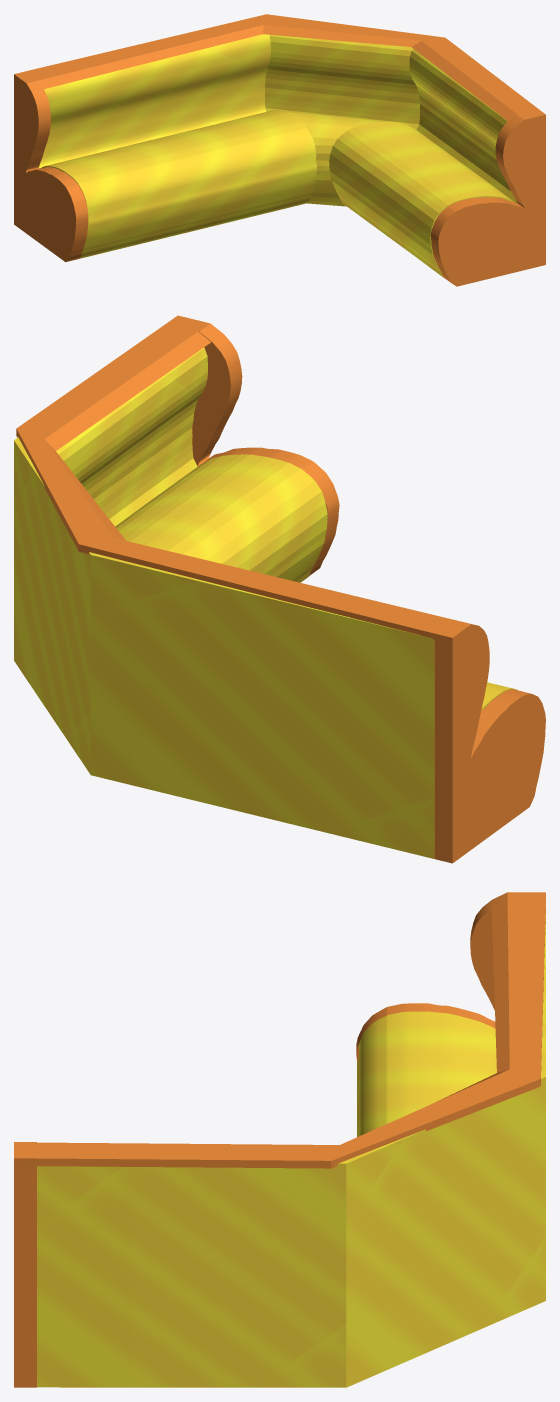
File: Sillon.obj
3 renders of one model, top to bottom at view 1: azimuth 30°, elevation 25°; view 2: azimuth 150°, elevation 25°; view 3: azimuth 270°, elevation 25°, orthographic. The views are drawn at different scales.
Size of the model in its own units: 7.89 by 3.14 by 6.6.
2 materials, 2 textured.
